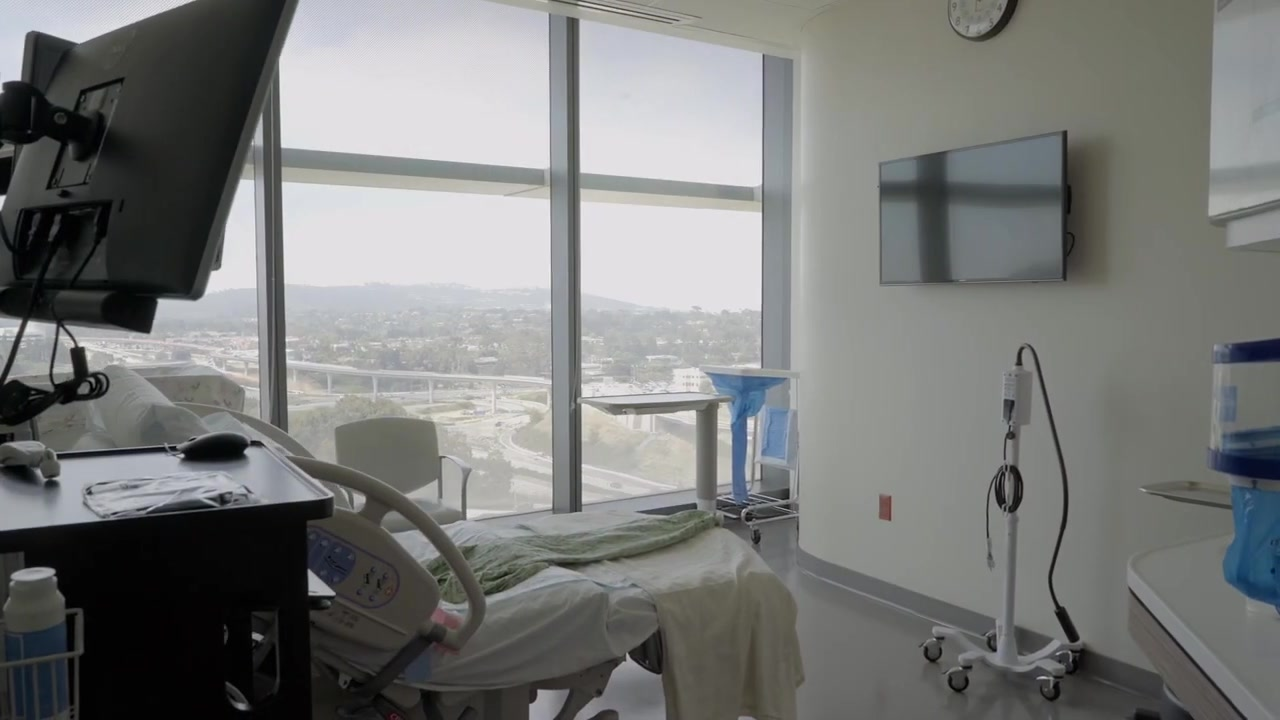TV: (876, 130, 1067, 286)
bedrail: (283, 456, 487, 707), (178, 400, 361, 512)
bedside_table: (1, 439, 328, 720)
chair: (334, 416, 472, 533)
computer: (1, 1, 314, 334)
countertop: (1124, 511, 1274, 717)
hospital_bed: (76, 363, 807, 720)
mouse: (175, 431, 247, 462)
overbed_table: (576, 392, 734, 514)
waste_bin: (699, 364, 800, 543)
